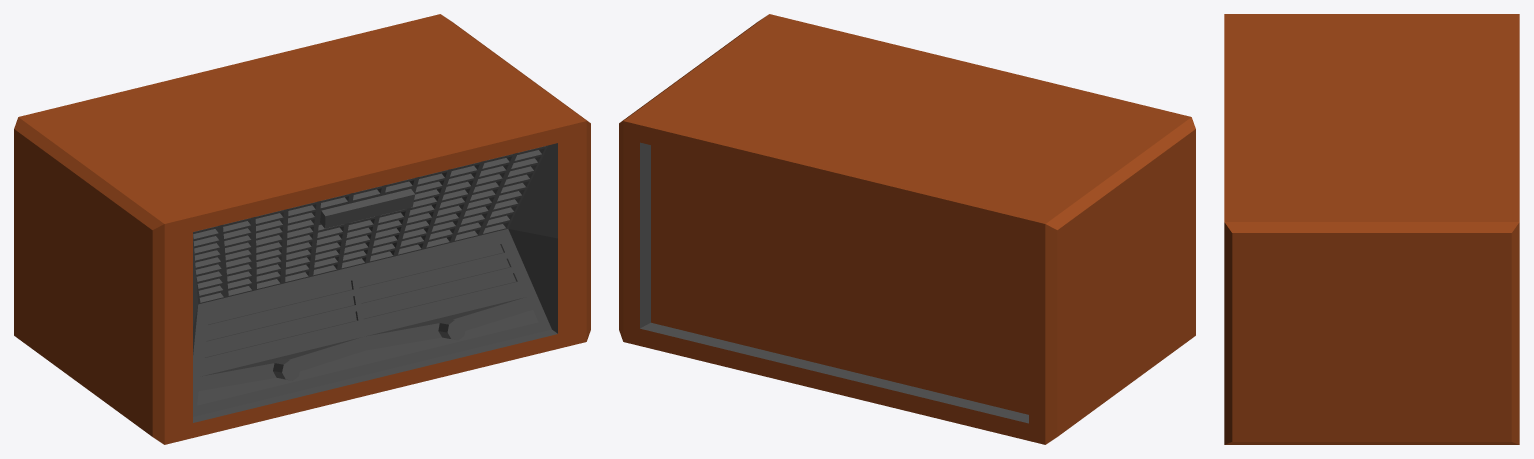
Rendered from Speaker.fbx.
3 views of the same model, side by side, from view 1: azimuth 30°, elevation 25°; view 2: azimuth 150°, elevation 25°; view 3: azimuth 270°, elevation 25° (orthographic).
Visible parts, largest first — view 1: Cube; view 2: Cube; view 3: Cube.
Part boxes in pixels (<box>): Cube: <box>14,14,590,444</box>; Cube: <box>619,14,1195,444</box>; Cube: <box>1224,14,1519,444</box>.
Size of the model in its own units: 415 by 200 by 240.
